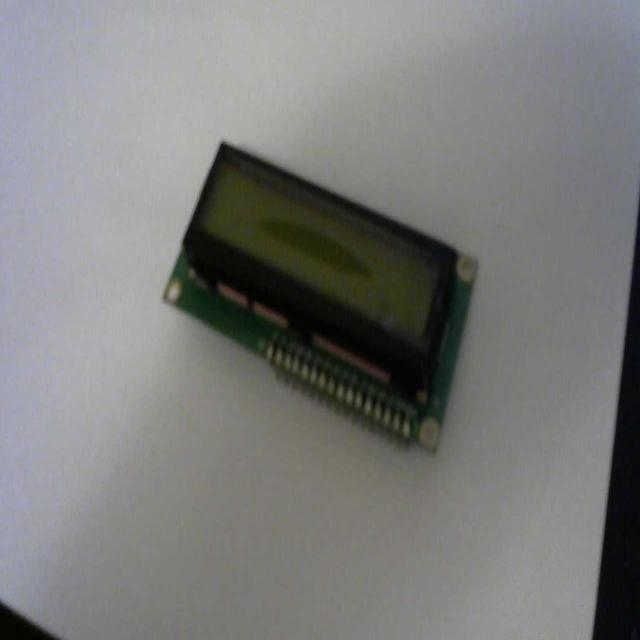lcd: (148, 114, 486, 473)
